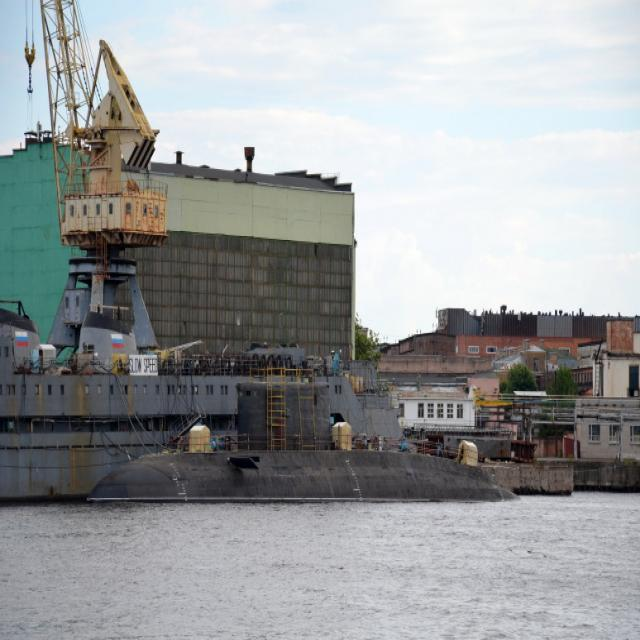submarine: (87, 380, 522, 502)
